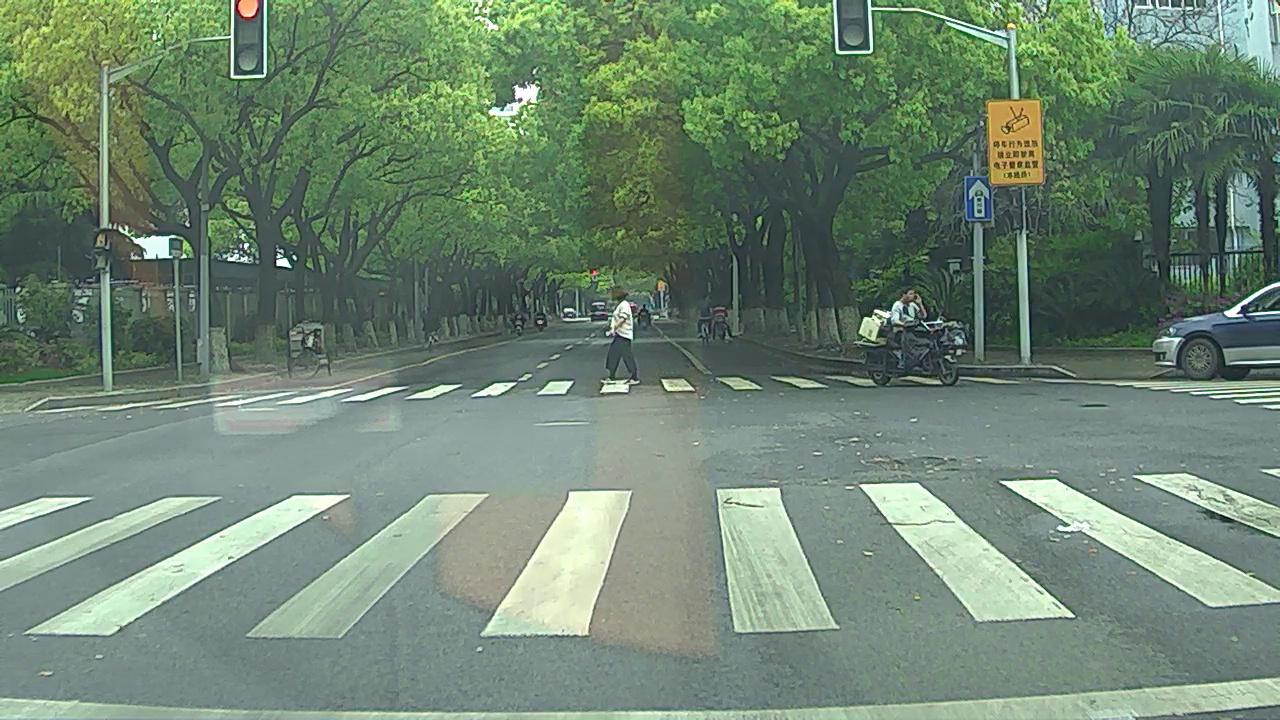traffic_light: (230, 1, 265, 72), (834, 1, 872, 56)
